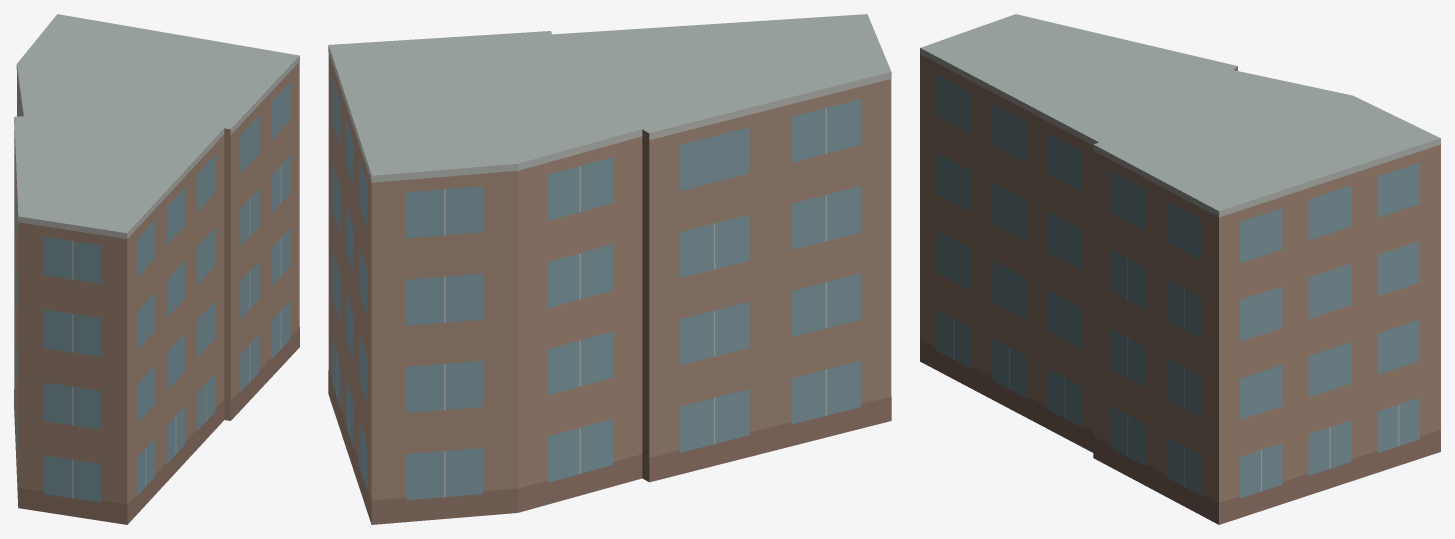
The model's file is survey-upis-32575390.glb.
The picture shows the model from 3 angles, left to right: view 1: azimuth 30°, elevation 25°; view 2: azimuth 150°, elevation 25°; view 3: azimuth 270°, elevation 25°; orthographic projection. The views are drawn at different scales.
Parts seen in each view (by area): view 1: survey-upis-32575390.tmp; view 2: survey-upis-32575390.tmp; view 3: survey-upis-32575390.tmp.
Boxes of the visible parts, x1,y1,x2,y2 form: survey-upis-32575390.tmp: (14, 14, 299, 524); survey-upis-32575390.tmp: (328, 14, 891, 524); survey-upis-32575390.tmp: (920, 14, 1440, 524).
Bounding box in the file's own units: 16.47 × 12.2 × 18.37.
